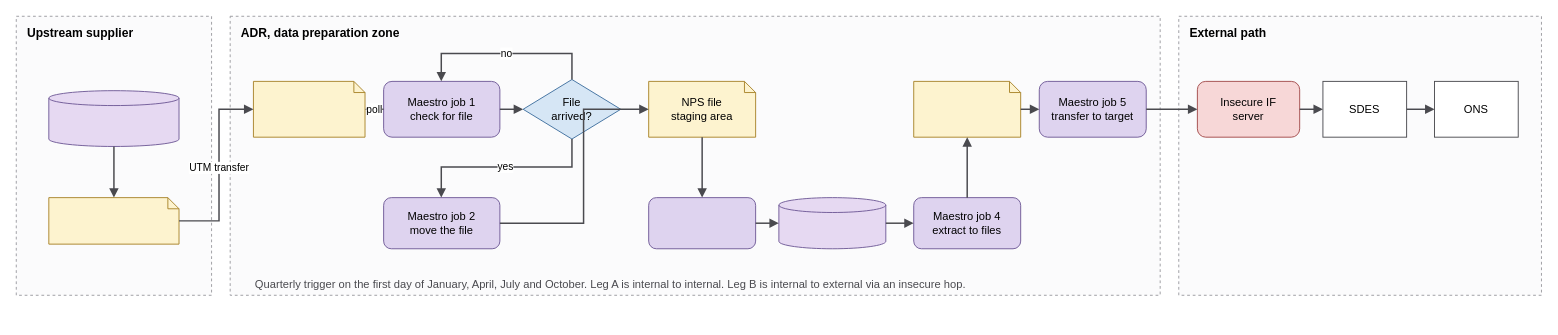
Image size: 1558x335. Some labels were removed from this diagram. Here are the shapes that lost their labels. From the top down, the centre of each, then its label:
At (x=113, y=118): "Migrant data".
At (x=308, y=108): "NPS file landing area".
At (x=967, y=108): "MWS file output area".
At (x=113, y=220): "Flat file".
At (x=702, y=223): "Maestro job 3 stage the data".
At (x=832, y=223): "MWS database staging area".
